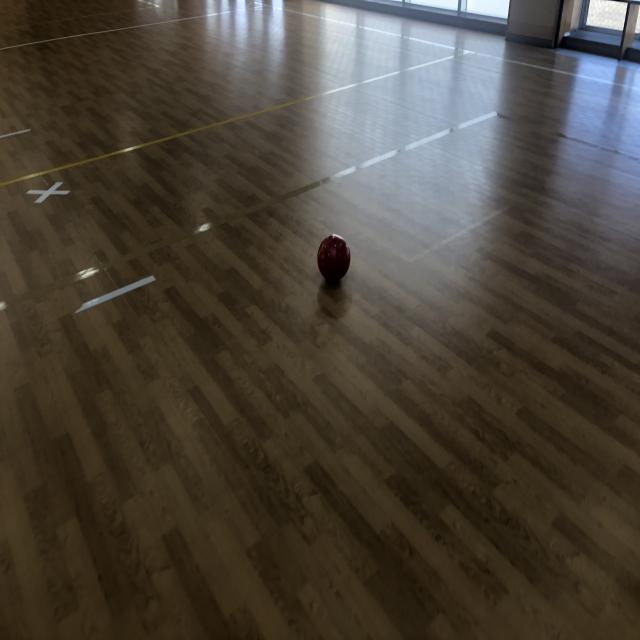red_ball: (317, 233, 351, 280)
